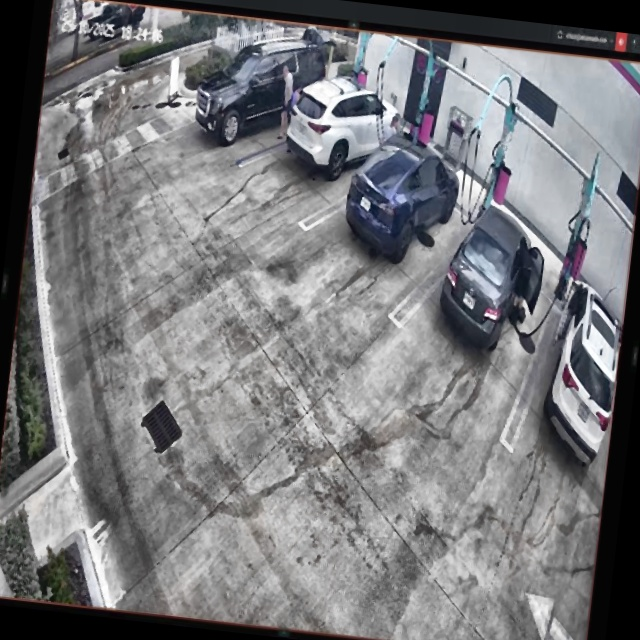Car: (437, 199, 549, 350), (342, 127, 464, 259), (284, 75, 404, 178)
